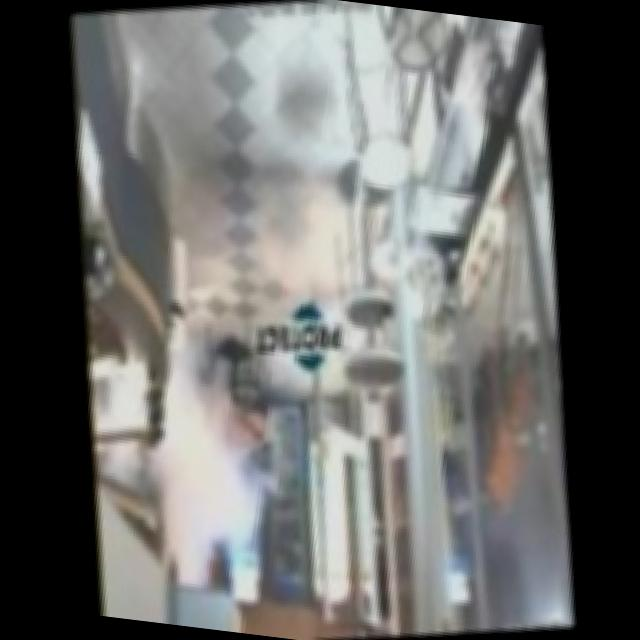smoke: (71, 297, 296, 598)
